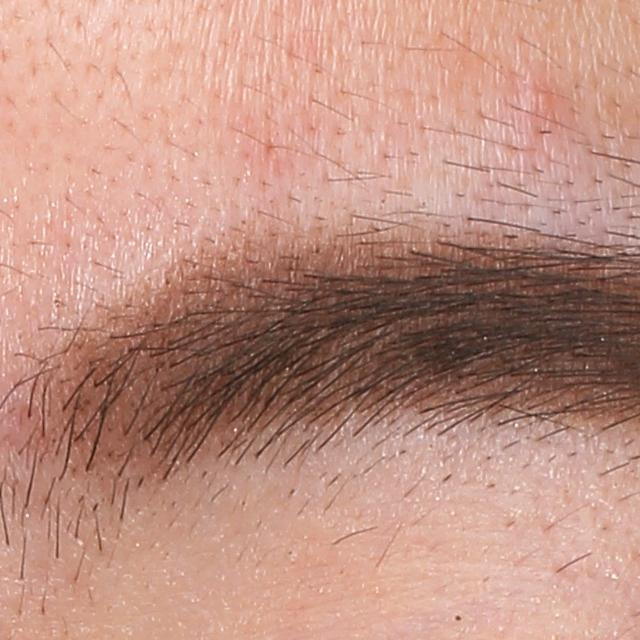comedo: (449, 611, 467, 625)
papule: (506, 75, 557, 123)
